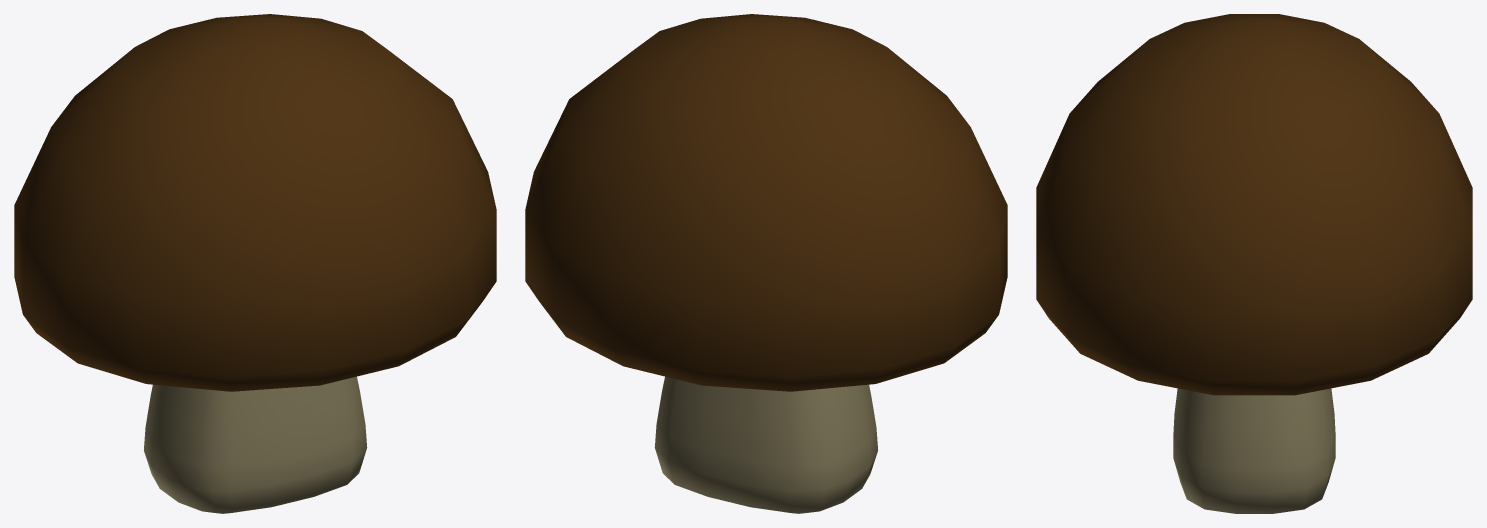
The model's file is mushroom.glb.
The picture shows the model from 3 angles, left to right: view 1: azimuth 30°, elevation 25°; view 2: azimuth 150°, elevation 25°; view 3: azimuth 270°, elevation 25°; orthographic projection.
Visible parts, largest first — view 1: Sphere.026; view 2: Sphere.026; view 3: Sphere.026.
Part boxes in pixels (x1,y1,x2,y2): Sphere.026: (14,14,496,513); Sphere.026: (525,14,1007,513); Sphere.026: (1036,14,1472,513).
Bounding box in the file's own units: 1.59 × 1.63 × 1.44.
